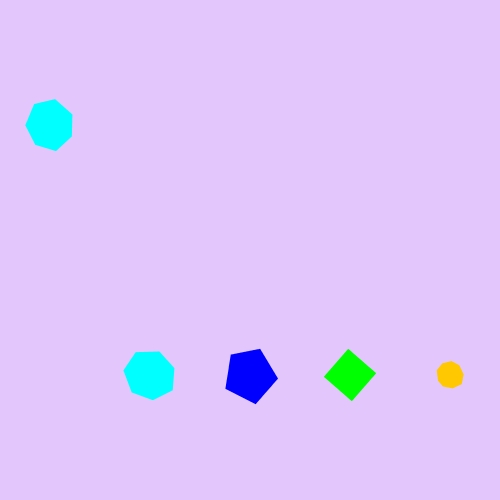heptagon: (121, 347, 180, 403), (21, 98, 79, 153)
nonagon: (432, 358, 468, 393)
pentagon: (220, 345, 280, 405)
quadrilateral: (321, 346, 380, 405)
